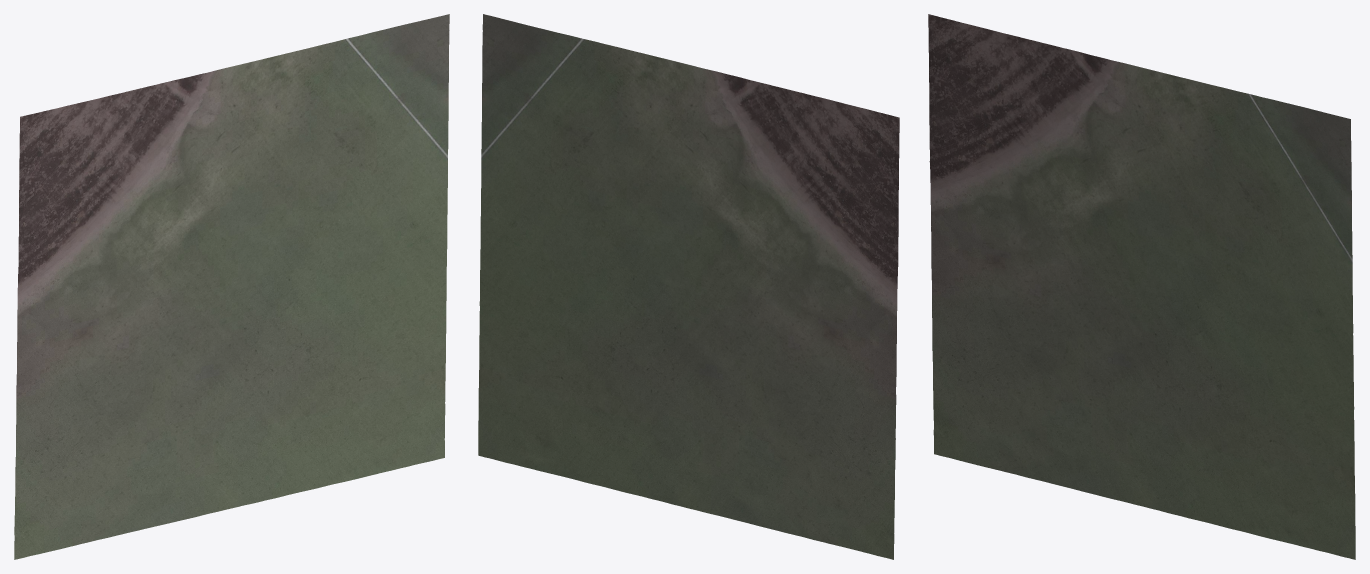
File: Tile_+017_+007.fbx
3 views of the same model, side by side, from view 1: azimuth 30°, elevation 25°; view 2: azimuth 150°, elevation 25°; view 3: azimuth 330°, elevation 25° (orthographic). The views are drawn at different scales.
Parts seen in each view (by area): view 1: DefaultName; view 2: DefaultName; view 3: DefaultName.
Part boxes in pixels (x1,y1,x2,y2): DefaultName: [14, 14, 449, 559]; DefaultName: [478, 14, 899, 559]; DefaultName: [928, 14, 1355, 559].
Size of the model in its own units: 22.54 by 22.54 by 0.7173.
